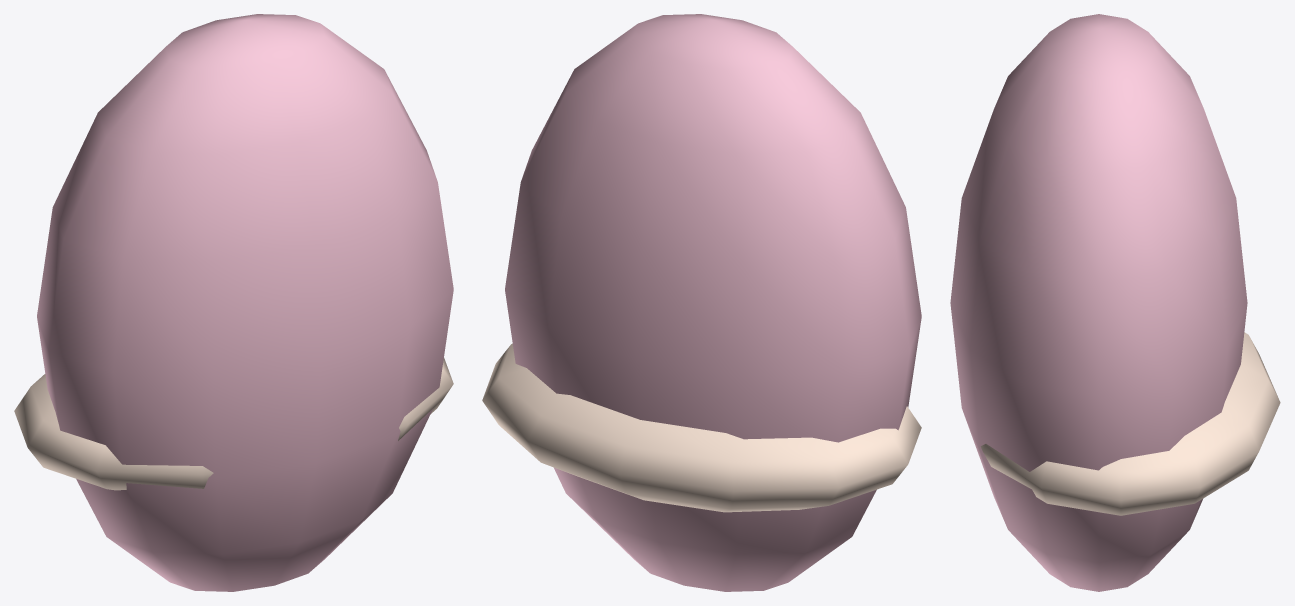
The model's file is clothes-chibi-01.glb.
3 views of the same model, side by side, from view 1: azimuth 30°, elevation 25°; view 2: azimuth 150°, elevation 25°; view 3: azimuth 270°, elevation 25° (orthographic). The views are drawn at different scales.
Parts seen in each view (by area): view 1: part_0, part_1; view 2: part_0, part_1; view 3: part_0, part_1.
Boxes of the visible parts, <box> form: part_0: <box>37,14,453,591</box>; part_1: <box>14,358,453,490</box>; part_0: <box>505,14,921,591</box>; part_1: <box>482,343,921,512</box>; part_0: <box>950,14,1247,591</box>; part_1: <box>980,332,1280,515</box>.
Size of the model in its own units: 0.84 by 1.1 by 0.6.
